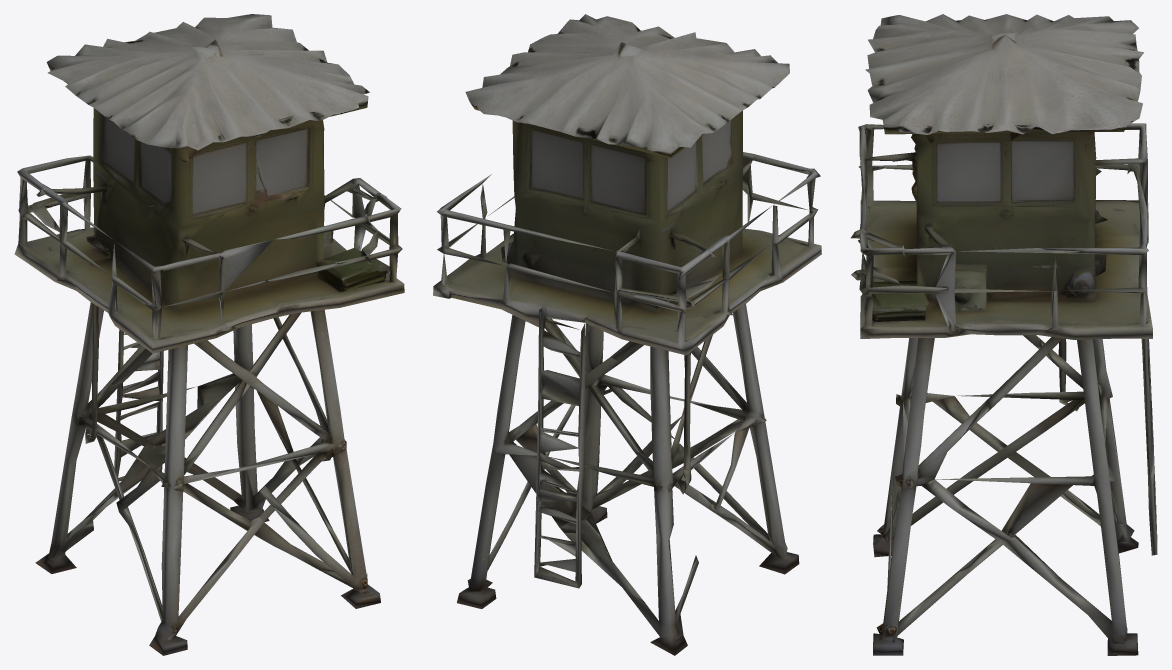
File: watchtower.raw.glb
The picture shows the model from 3 angles, left to right: view 1: azimuth 30°, elevation 25°; view 2: azimuth 150°, elevation 25°; view 3: azimuth 270°, elevation 25°; orthographic projection. The views are drawn at different scales.
Parts seen in each view (by area): view 1: tripo_node_13969156-4d14-46e0-9b67-66cd3c7cf57a; view 2: tripo_node_13969156-4d14-46e0-9b67-66cd3c7cf57a; view 3: tripo_node_13969156-4d14-46e0-9b67-66cd3c7cf57a.
Boxes of the visible parts, left/top/right/bottom form: tripo_node_13969156-4d14-46e0-9b67-66cd3c7cf57a: left=14, top=14, right=404, bottom=655; tripo_node_13969156-4d14-46e0-9b67-66cd3c7cf57a: left=433, top=14, right=821, bottom=655; tripo_node_13969156-4d14-46e0-9b67-66cd3c7cf57a: left=851, top=14, right=1157, bottom=655.
Bounding box in the file's own units: 0.5036 × 1 × 0.4888.
1 material, 1 textured.
